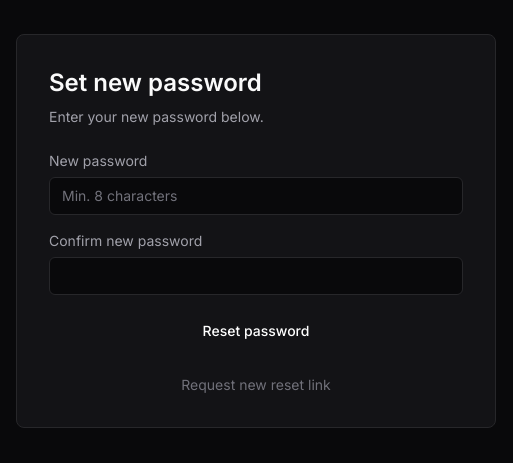
it: ResetPasswordConfirmPage › shows error for password mismatch
In the password field labelled "New password": (256, 196) [49, 177, 463, 215], type "password123"
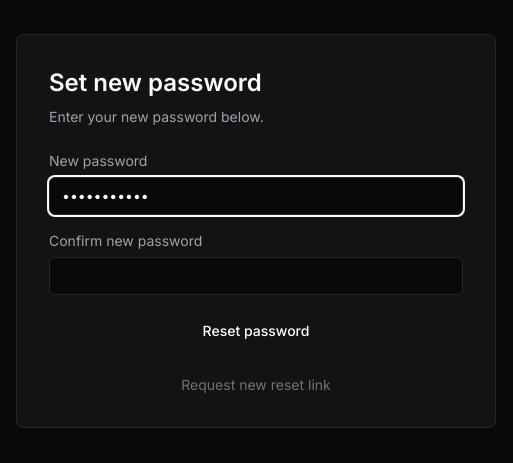
In the password field labelled "Confirm new password": (256, 276) [49, 257, 463, 295], type "differentpass"
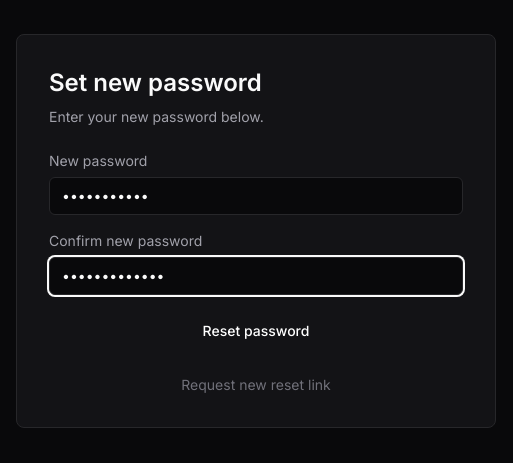
Click the button "Reset password": (256, 331) [49, 311, 463, 351]
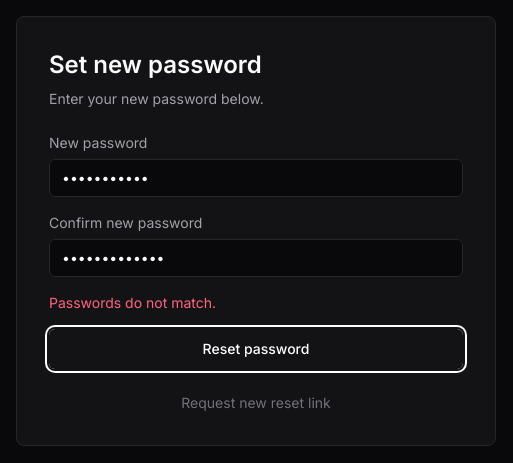
expect the text "Passwords do not match." is shown: met, box [49, 294, 216, 311]
